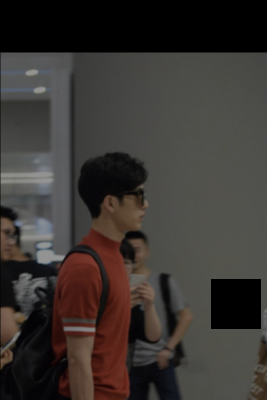without_mask: (112, 186, 150, 234), (124, 245, 148, 270), (1, 226, 17, 263)
